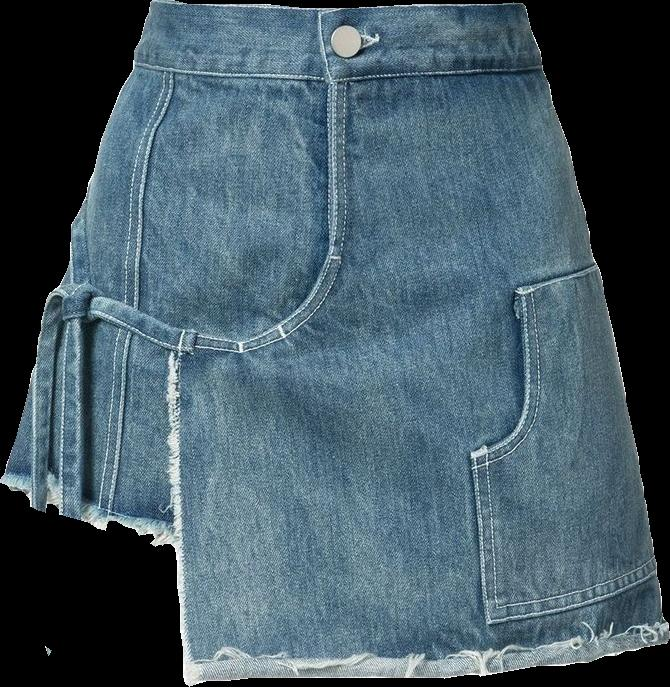Hemline: (1, 475, 669, 686)
Waistline: (161, 80, 336, 530), (130, 57, 543, 81), (151, 0, 521, 13)
